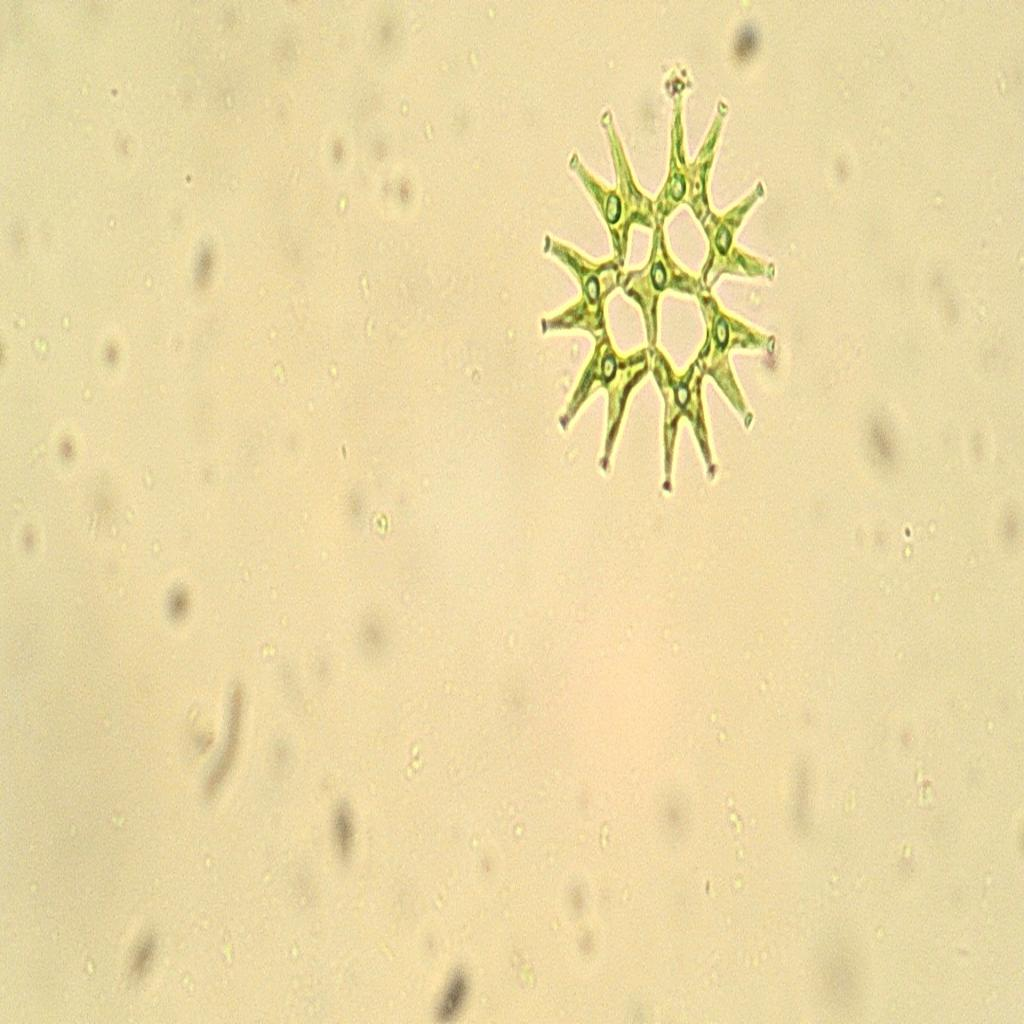Pediastrum_CTH: (525, 56, 793, 520)
